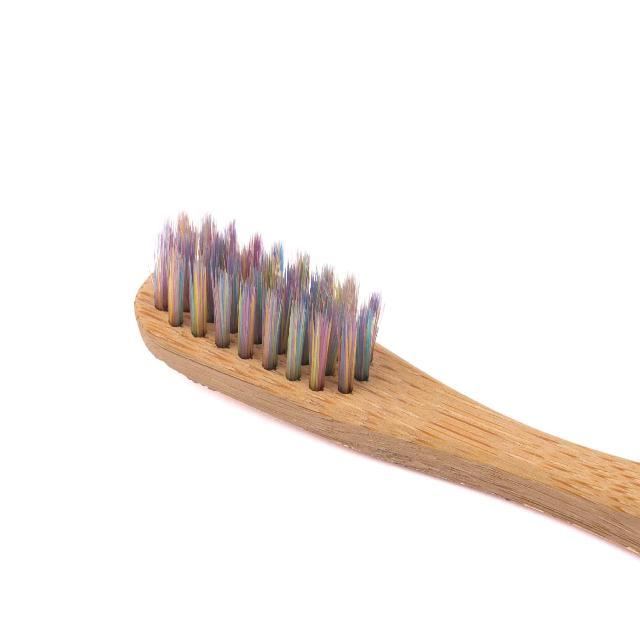toothbrush: (56, 173, 640, 527)
